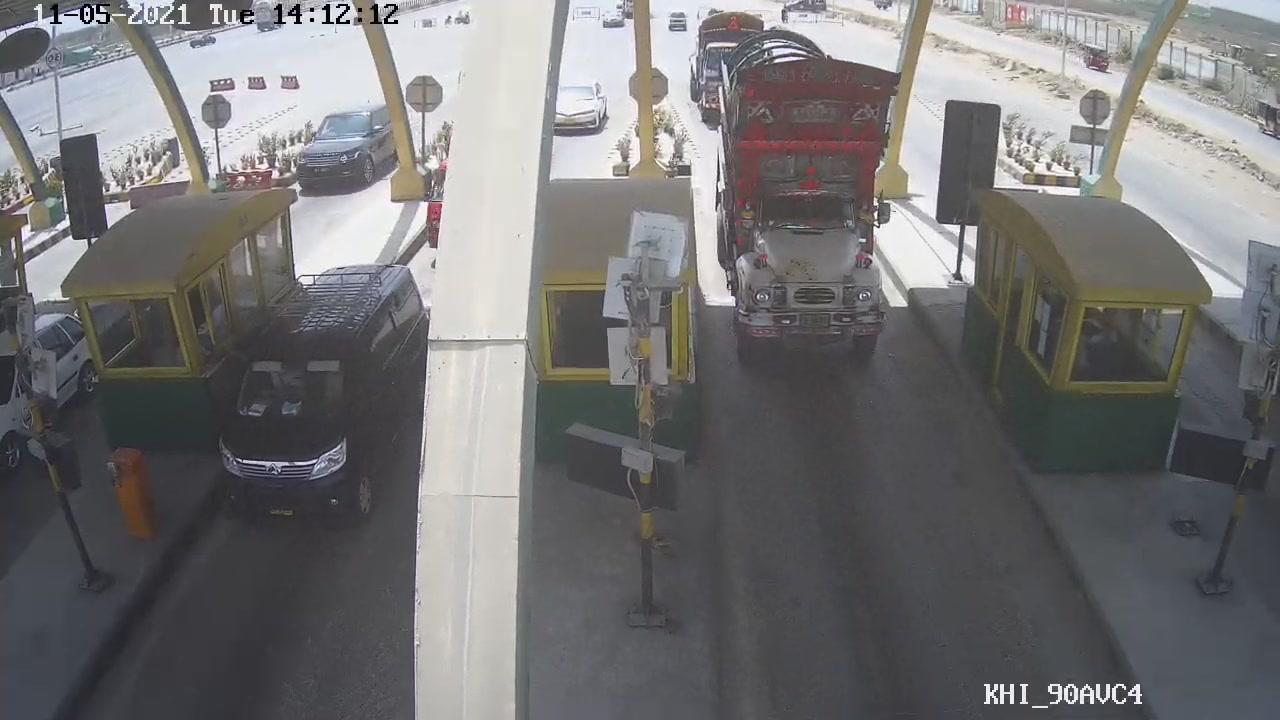F5: (716, 47, 907, 370)
